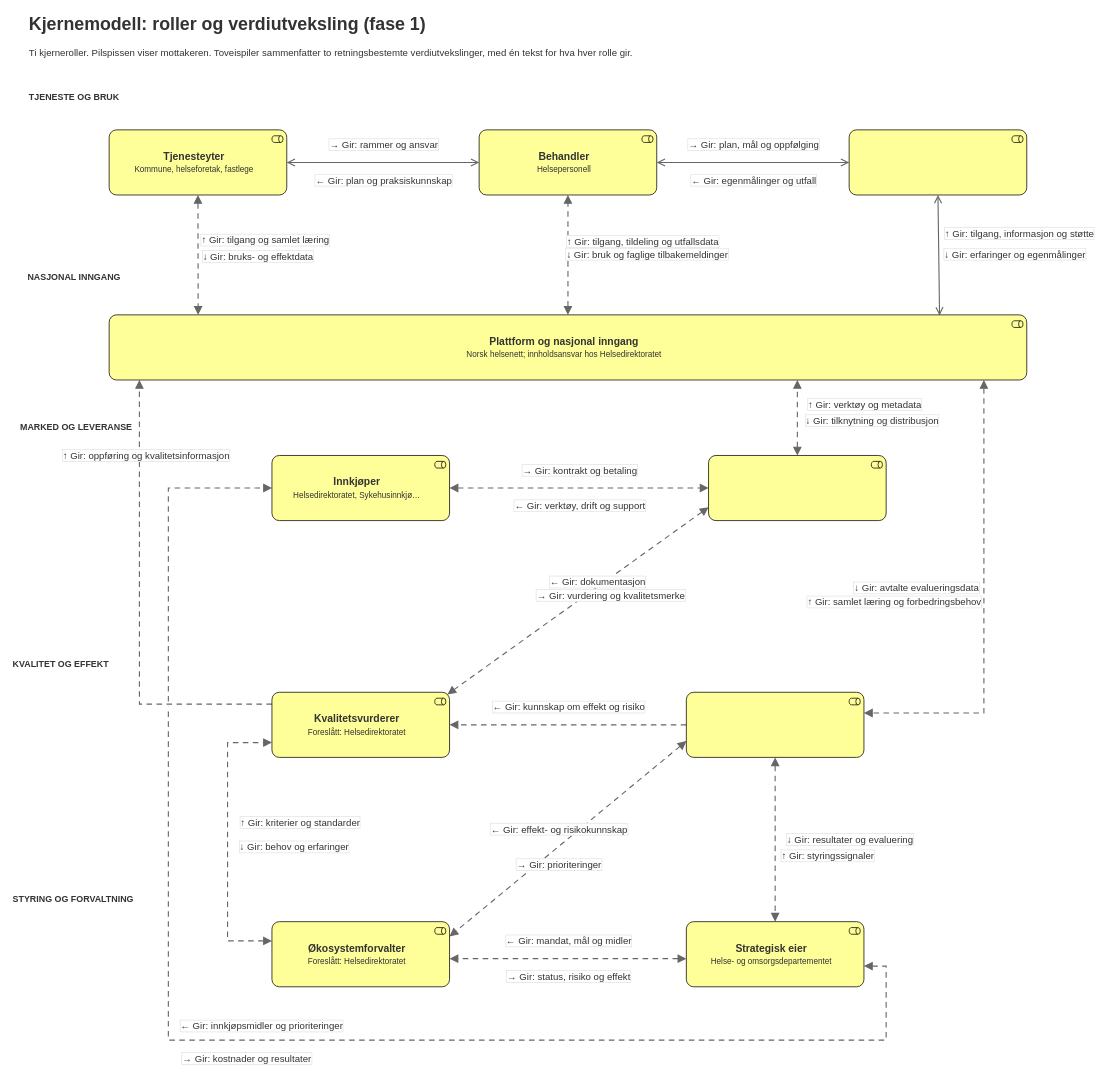
The diagram is 1119 pixels wide and 1077 high, and some of its shapes have lost their labels. The shapes that lost their labels are listed below. From the top down, each one's centre as x and y in pixels, then its label:
the point at 937,162: Bruker Innbygger, pasient, pårørende
the point at 797,488: Verktøyleverandør Private, ideelle, akademiske og …
the point at 775,724: Effekt- og forbedringsansvarlig Helsedirektoratet som eier; eval…
